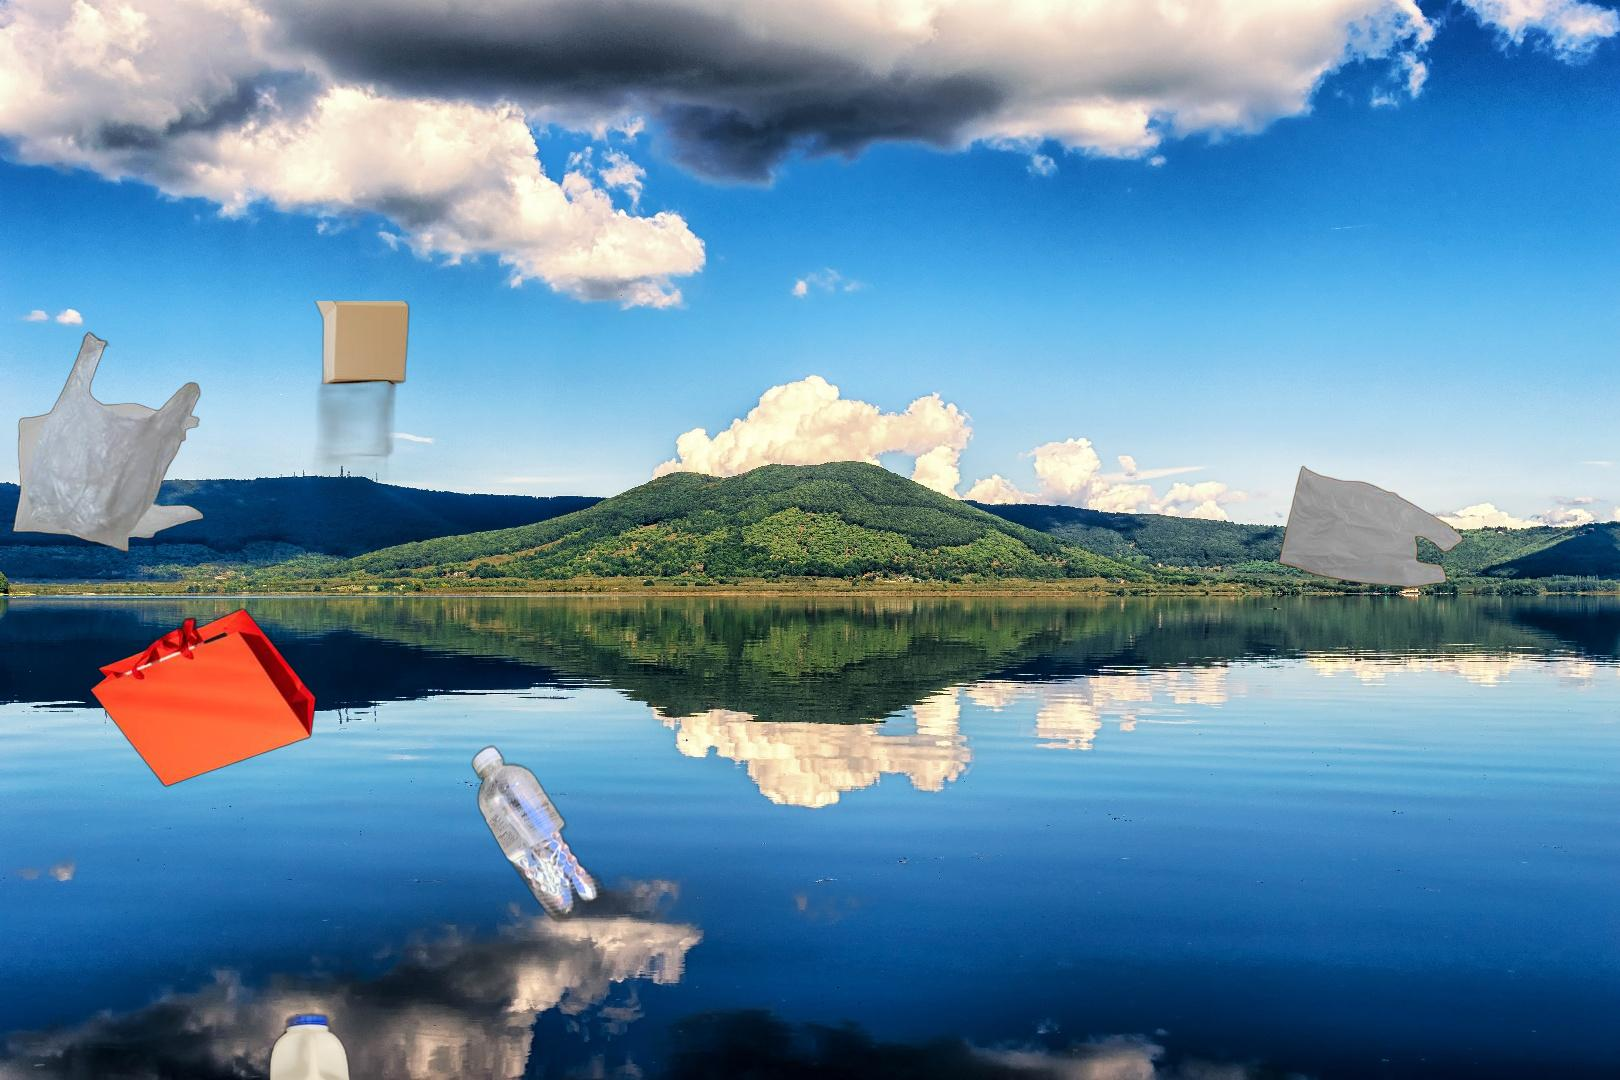paper-bag: (87, 606, 319, 790)
plastic-bag: (10, 330, 207, 554), (1276, 464, 1466, 589)
plastic-bottles: (468, 741, 642, 928), (265, 1008, 358, 1080)
trashbox-cardboard: (199, 301, 413, 500)
